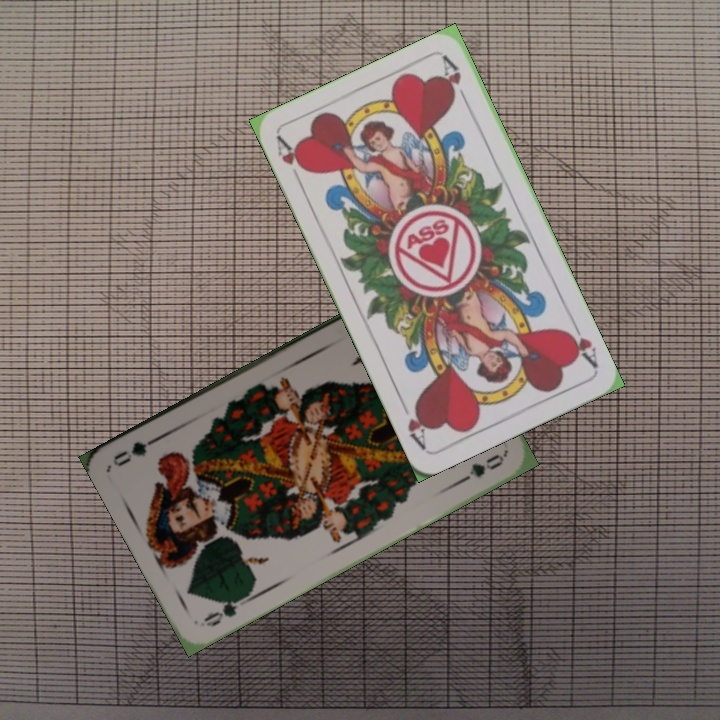GO: (199, 592, 253, 630)
HA: (561, 315, 601, 371), (272, 132, 310, 189)
